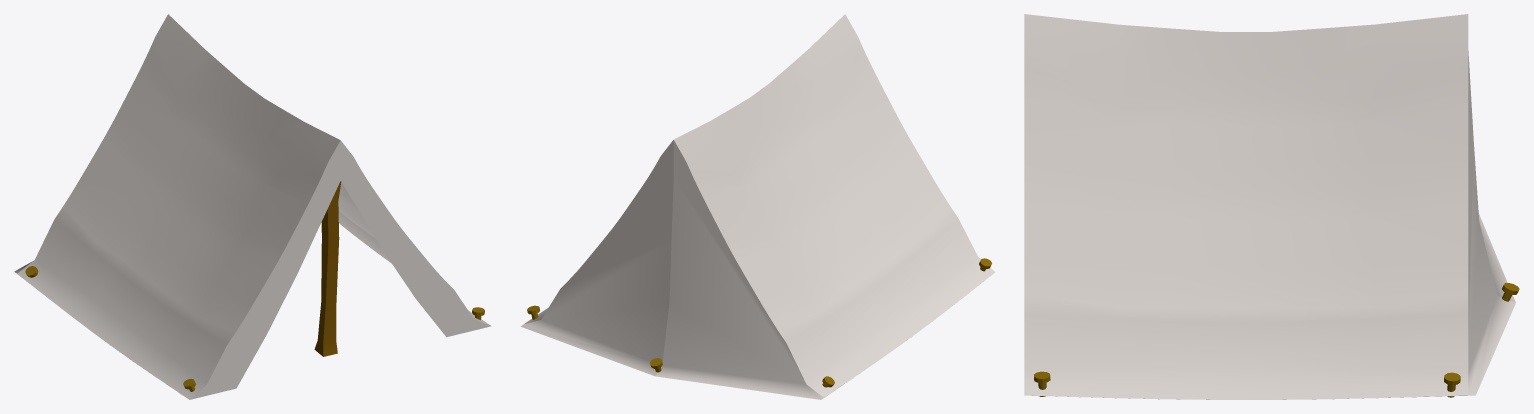
The model's file is Camp2.fbx.
The picture shows the model from 3 angles, left to right: view 1: azimuth 30°, elevation 25°; view 2: azimuth 150°, elevation 25°; view 3: azimuth 270°, elevation 25°; orthographic projection. The views are drawn at different scales.
Parts seen in each view (by area): view 1: pPlane2; view 2: pPlane2; view 3: pPlane2.
Boxes of the visible parts, box(x1,y1,x2,y2) form: pPlane2: box(14, 14, 491, 399); pPlane2: box(521, 14, 995, 399); pPlane2: box(1024, 14, 1519, 399).
Size of the model in its own units: 9.68 by 6.93 by 10.6.
